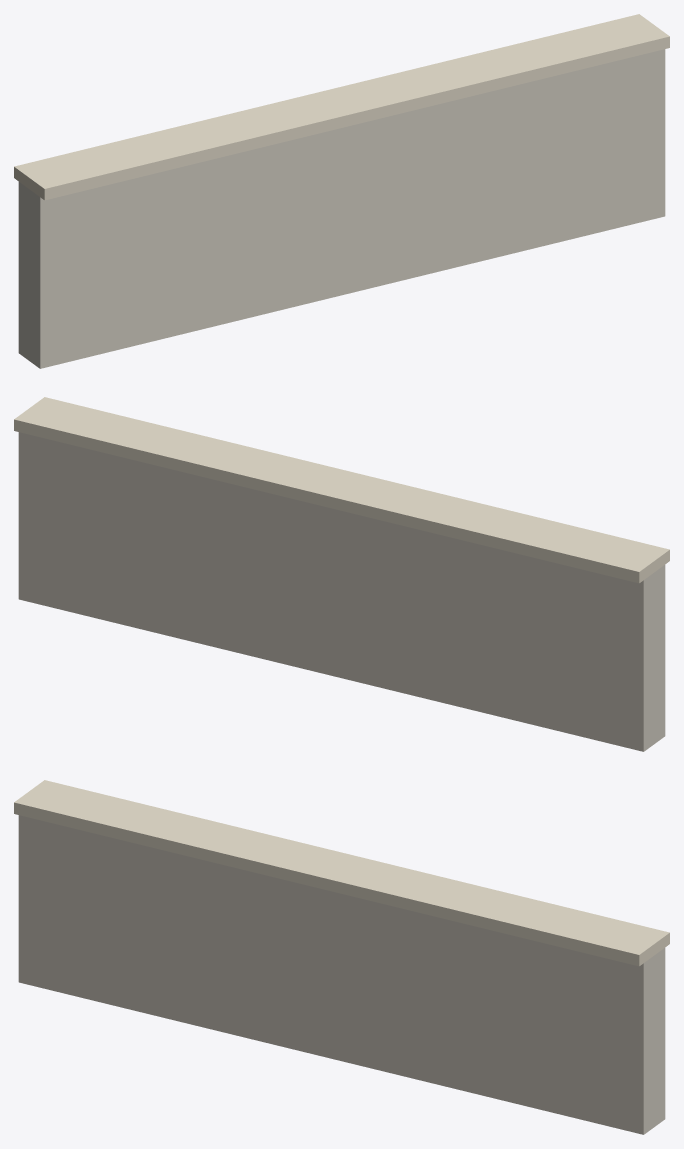
File: b-parapet.glb
3 views of the same model, one above another, from view 1: azimuth 30°, elevation 25°; view 2: azimuth 150°, elevation 25°; view 3: azimuth 330°, elevation 25° (orthographic).
Parts seen in each view (by area): view 1: b-parapet; view 2: b-parapet; view 3: b-parapet.
Boxes of the visible parts, box(x1,y1,x2,y2) form: b-parapet: box(14, 14, 669, 368); b-parapet: box(14, 397, 669, 751); b-parapet: box(14, 780, 669, 1134).
Bounding box in the file's own units: 4 × 1.12 × 0.34.
